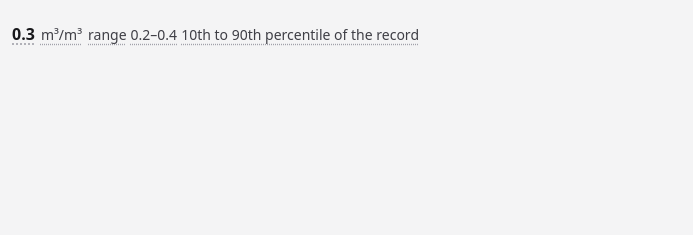
Scenario: SourcedNumber › names the derived kind as "our calculation" on the number and in its source panel
What coordinates should you click on to do the following:
click the button with aria-label "Source: our calculation"
I would click on:
 (216, 34)
Its box is left=12, top=12, right=419, bottom=56.
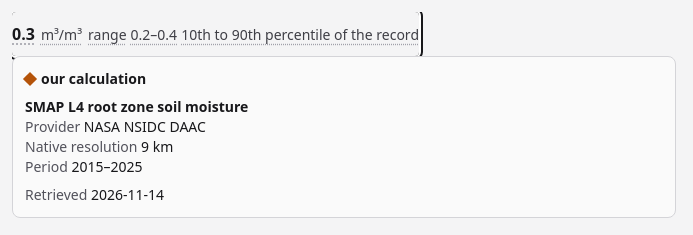
Now the text "our calculation" is shown, box left=23, top=69, right=146, bottom=88
